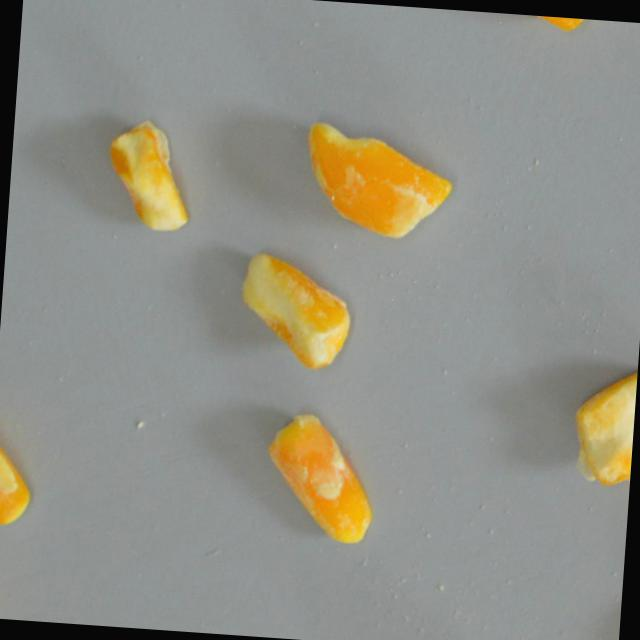dañado: (297, 114, 459, 247), (254, 398, 382, 549), (230, 246, 359, 375), (97, 117, 196, 235), (0, 407, 38, 528), (493, 11, 606, 36)
pelicula: (565, 355, 638, 489)
